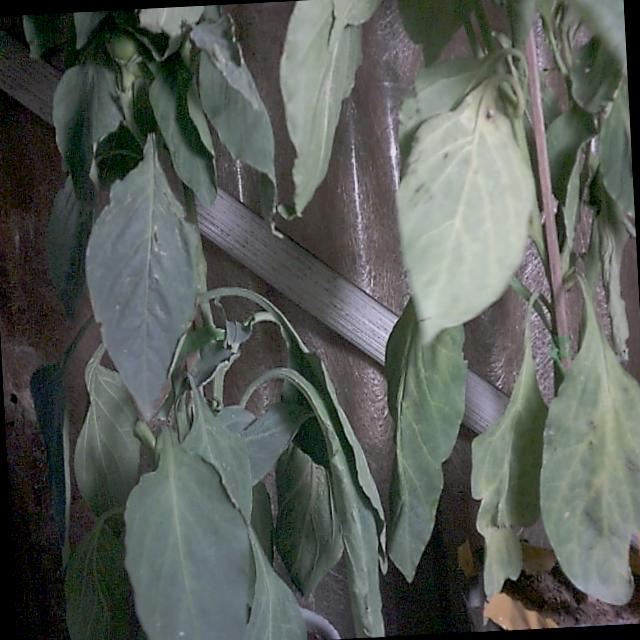Leaf: (397, 83, 535, 344), (86, 136, 199, 419), (541, 278, 639, 604), (125, 428, 253, 639), (385, 300, 467, 581), (472, 303, 547, 598), (74, 344, 140, 515)
